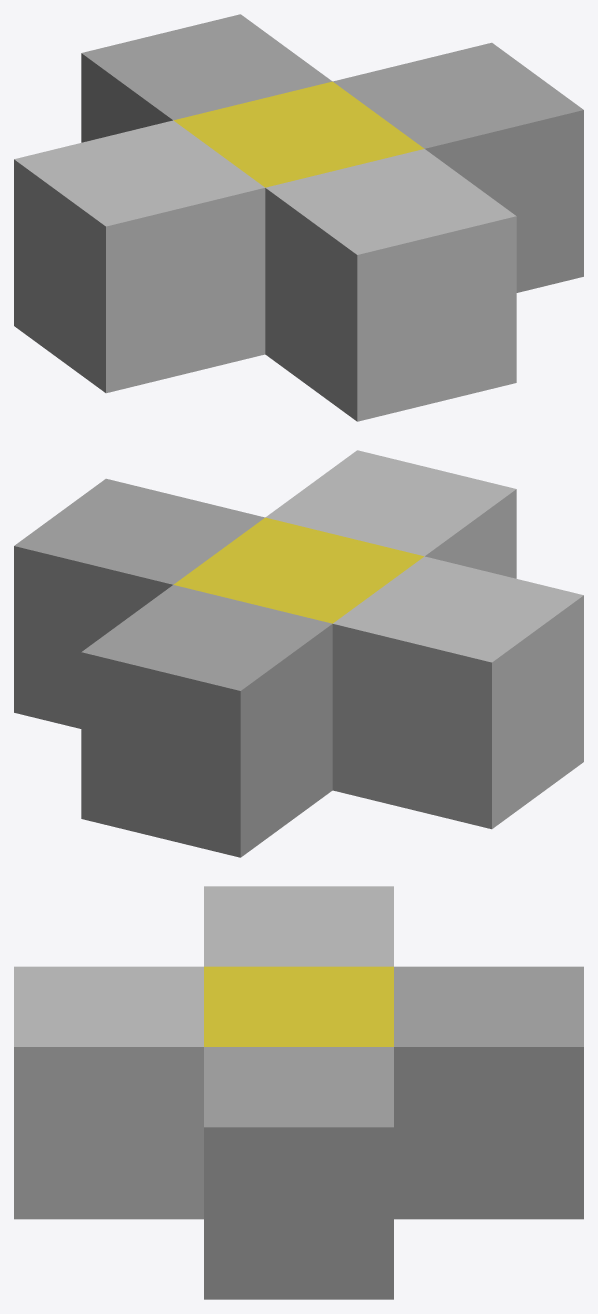
The model's file is Plants-0.obj.
3 views of the same model, one above another, from view 1: azimuth 30°, elevation 25°; view 2: azimuth 150°, elevation 25°; view 3: azimuth 270°, elevation 25° (orthographic). The views are drawn at different scales.
Size of the model in its own units: 0.3 by 0.1 by 0.3.
1 material, 1 textured.
